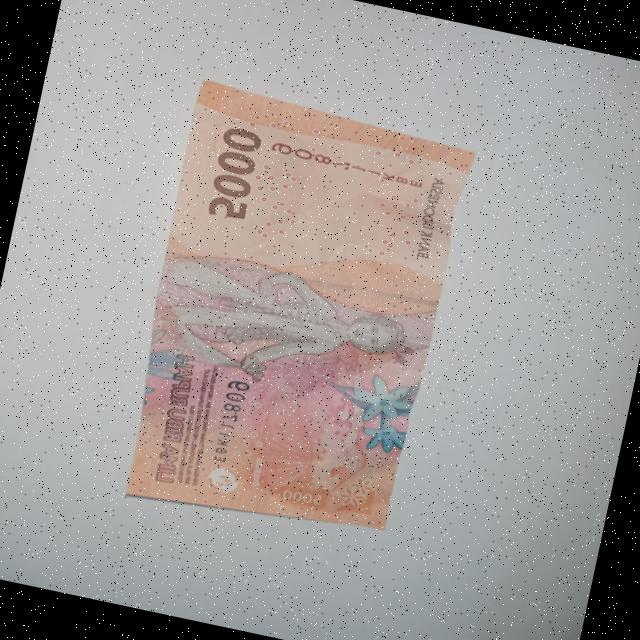5K: (104, 66, 501, 567)
